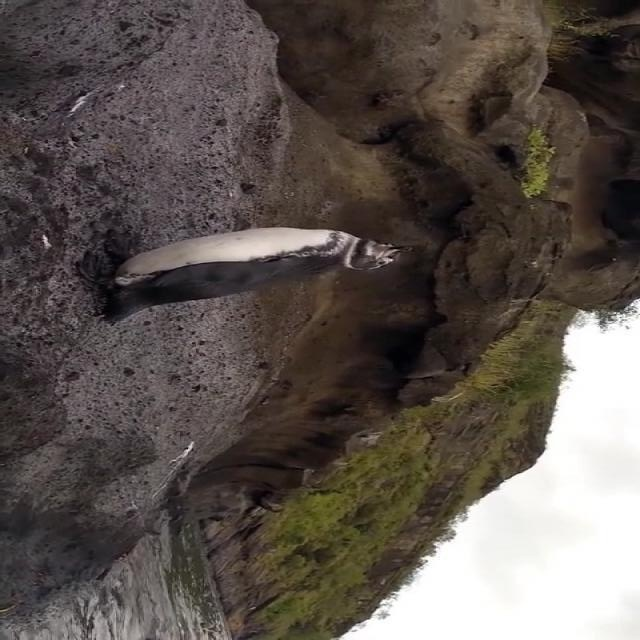penguin: (75, 224, 413, 327)
